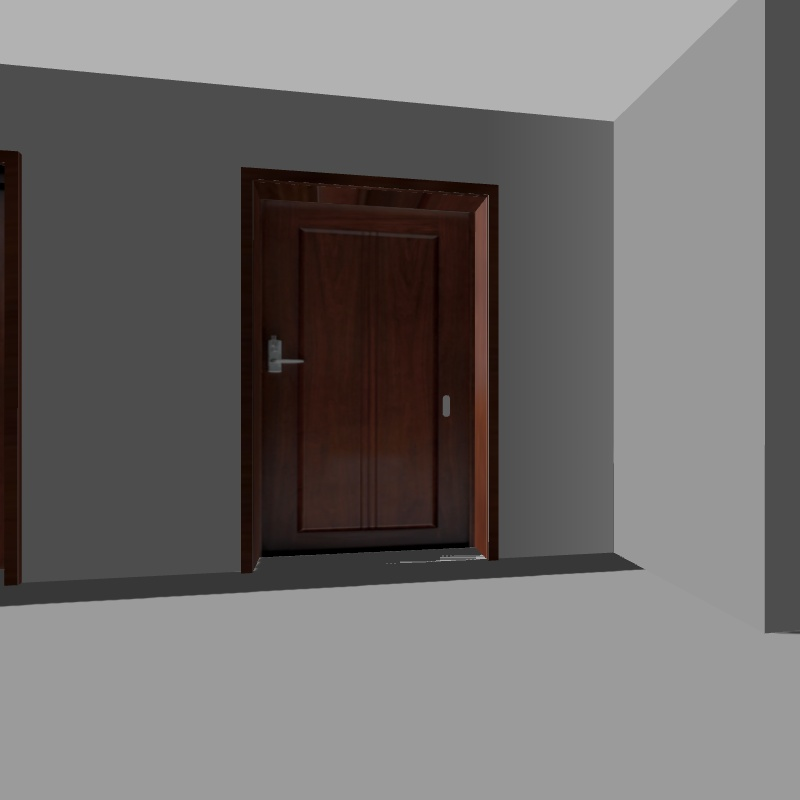handle: (257, 332, 307, 384)
